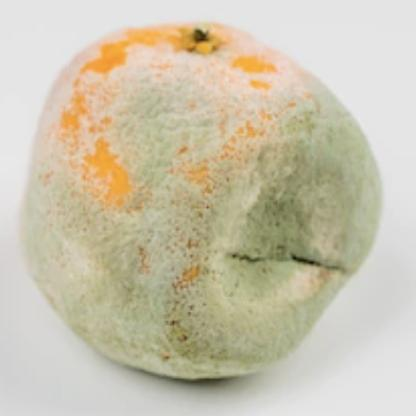rotten: (19, 21, 381, 386)
